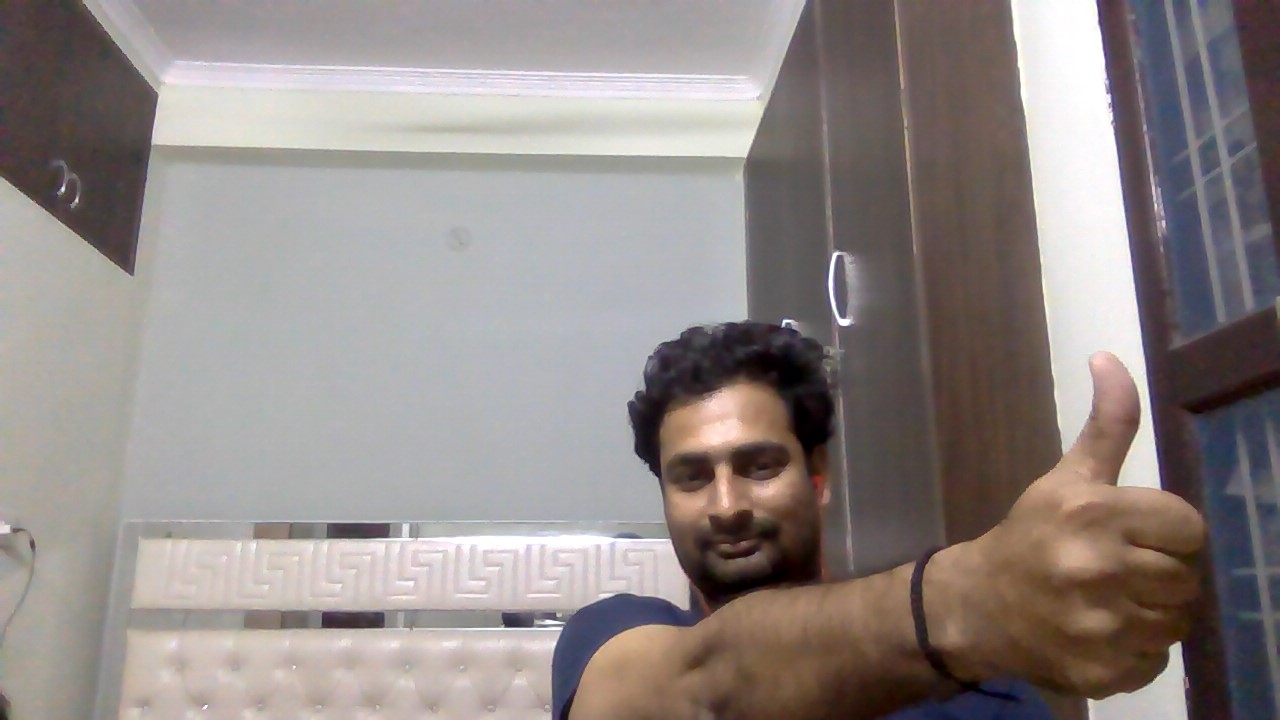Save: (945, 331, 1218, 717)
